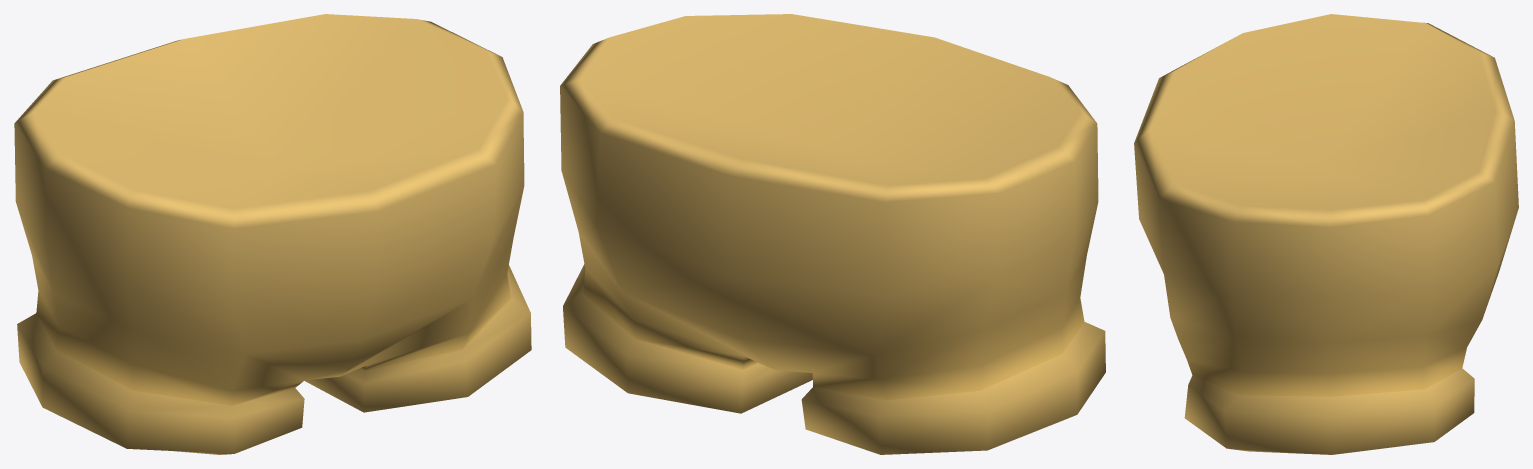
File: Bottom_7.fbx
3 views of the same model, side by side, from view 1: azimuth 30°, elevation 25°; view 2: azimuth 150°, elevation 25°; view 3: azimuth 270°, elevation 25° (orthographic). The views are drawn at different scales.
Parts seen in each view (by area): view 1: Bottom_7; view 2: Bottom_7; view 3: Bottom_7.
Part boxes in pixels (left/top/right/bottom): Bottom_7: left=14, top=14, right=531, bottom=454; Bottom_7: left=560, top=14, right=1105, bottom=454; Bottom_7: left=1134, top=14, right=1518, bottom=454.
Bounding box in the file's own units: 38.94 × 22.89 × 29.68.
